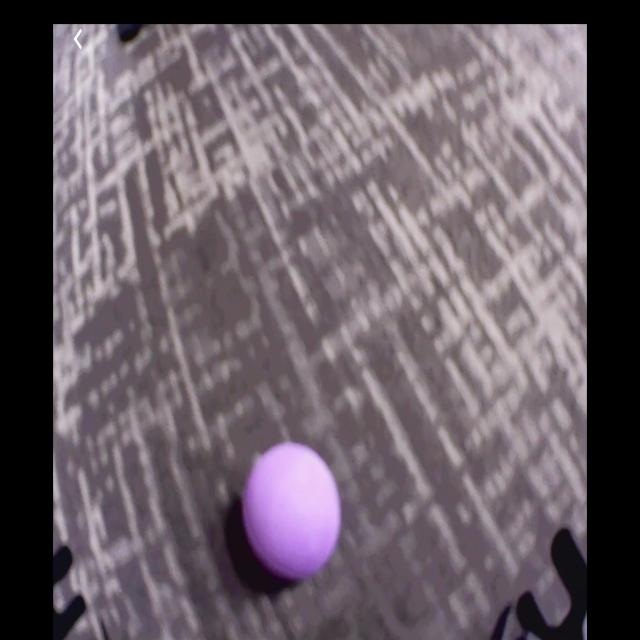ball: (243, 444, 342, 575)
